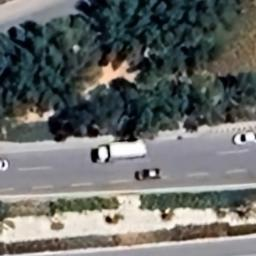sedan: (228, 127, 256, 147), (134, 168, 162, 184), (0, 156, 10, 174)
truck: (93, 140, 151, 166)
